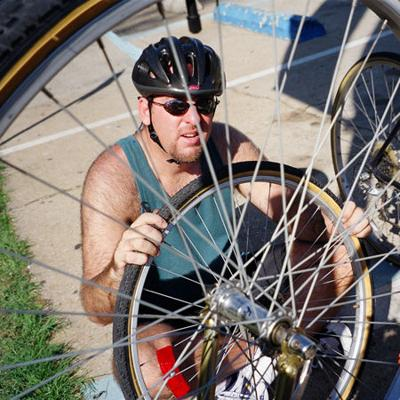person: (75, 34, 370, 400)
